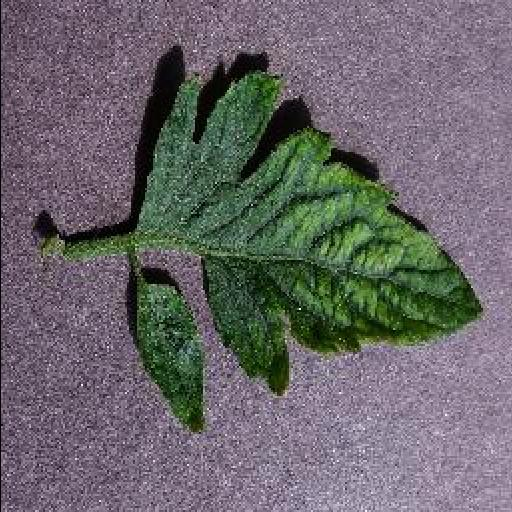disease_tomato: (130, 72, 490, 402)
